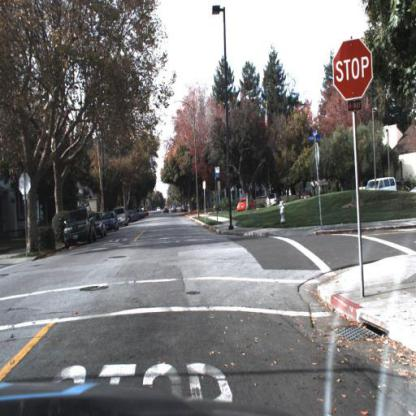car: (62, 203, 96, 250), (360, 176, 398, 194), (90, 203, 108, 239), (100, 209, 121, 233), (364, 176, 395, 191), (235, 194, 257, 212), (112, 204, 128, 228), (94, 209, 106, 239), (106, 209, 118, 235), (266, 191, 282, 209), (236, 198, 253, 214), (117, 205, 128, 228), (265, 192, 280, 204), (300, 190, 311, 200)
